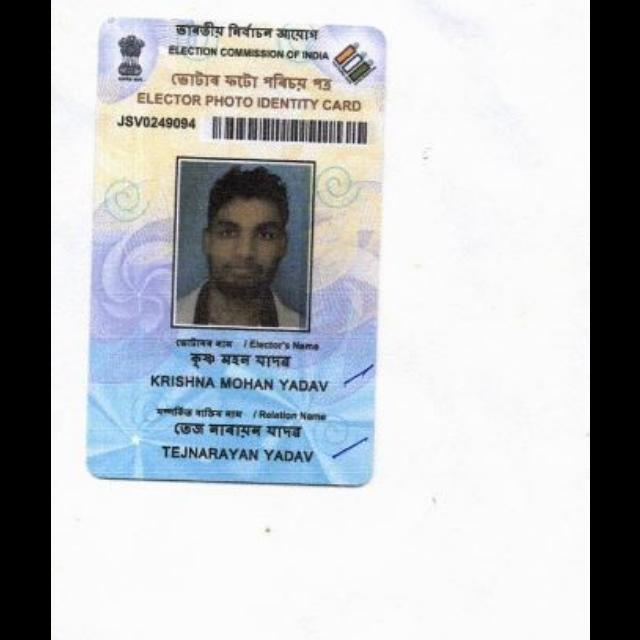voter_id: (80, 11, 392, 495)
